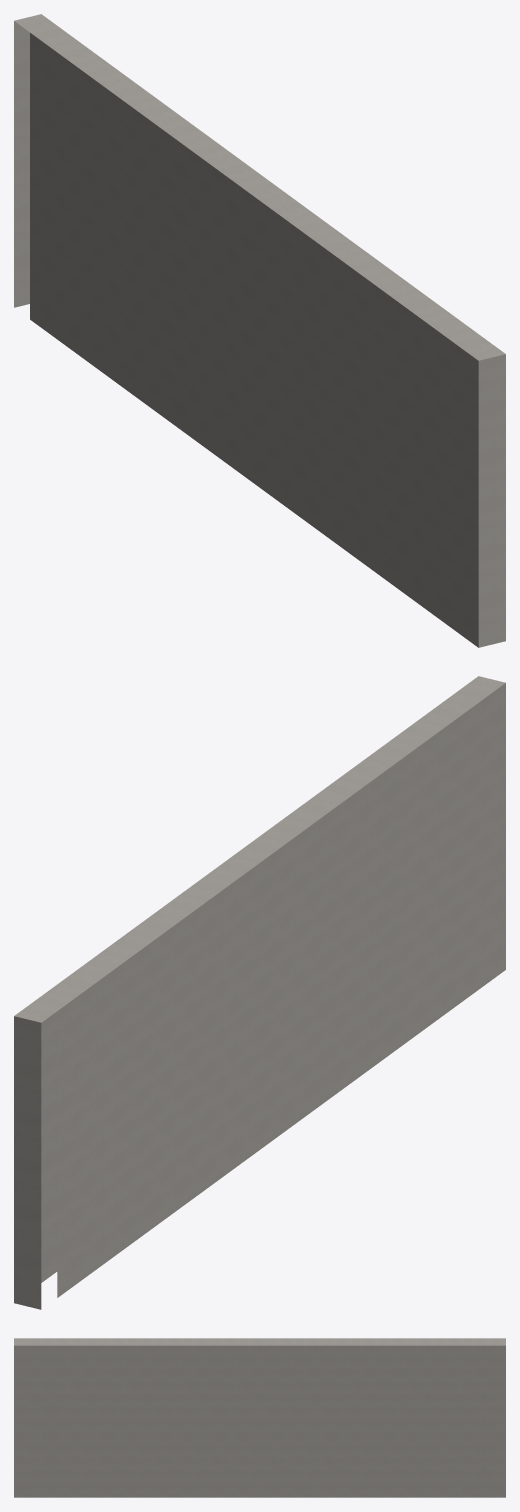
Rendered from fstWallU.obj.
The picture shows the model from 3 angles, top to bottom: view 1: azimuth 30°, elevation 25°; view 2: azimuth 150°, elevation 25°; view 3: azimuth 270°, elevation 25°; orthographic projection. The views are drawn at different scales.
Parts seen in each view (by area): view 1: Box011; view 2: Box011; view 3: Box011.
Boxes of the visible parts, x1,y1,x2,y2 form: Box011: [14, 14, 505, 647]; Box011: [14, 676, 505, 1309]; Box011: [14, 1338, 505, 1497].
Size of the model in its own units: 11.81 by 118 by 346.
